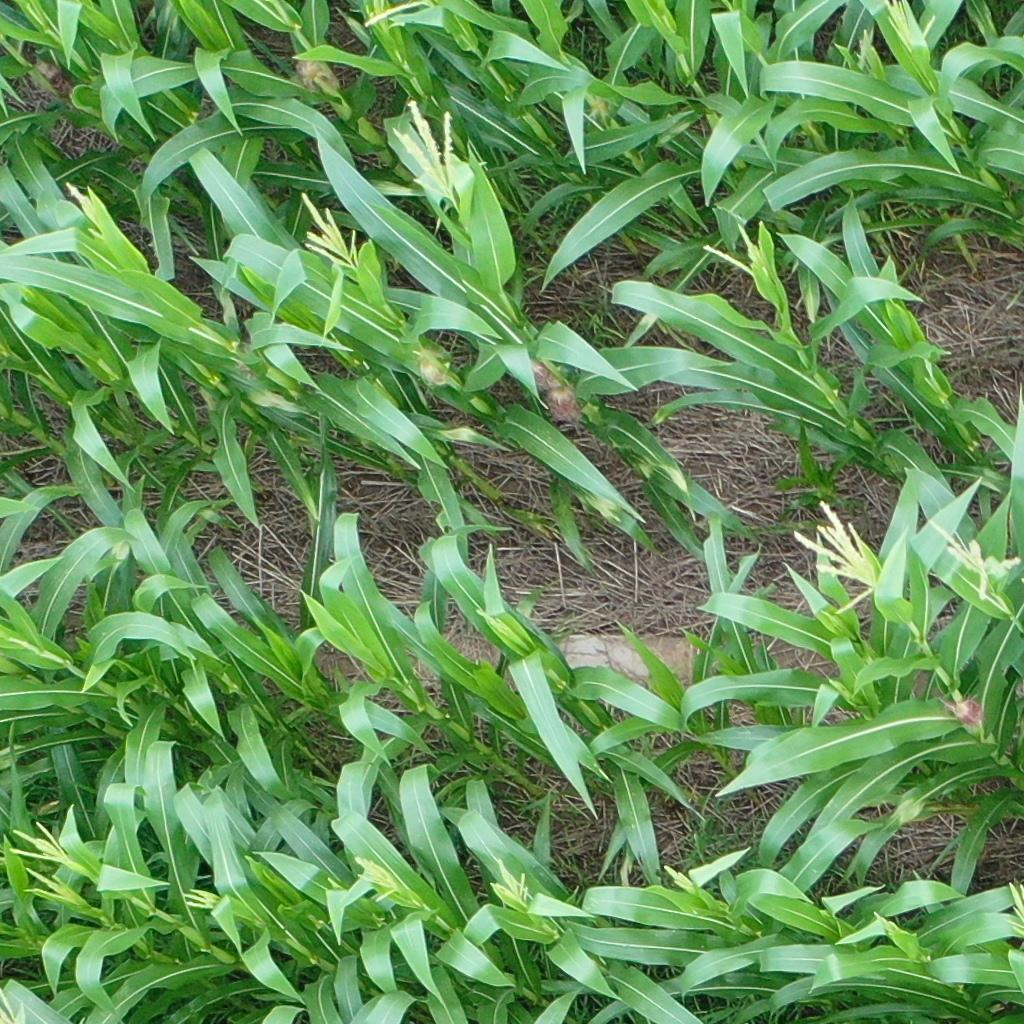Tassel: (795, 498, 885, 618), (386, 94, 466, 213), (923, 519, 1019, 604), (296, 189, 367, 271), (8, 820, 80, 897), (698, 218, 774, 288), (348, 858, 413, 915), (881, 1, 938, 53), (64, 174, 107, 241), (487, 863, 538, 912), (179, 886, 231, 919), (999, 880, 1024, 939)
